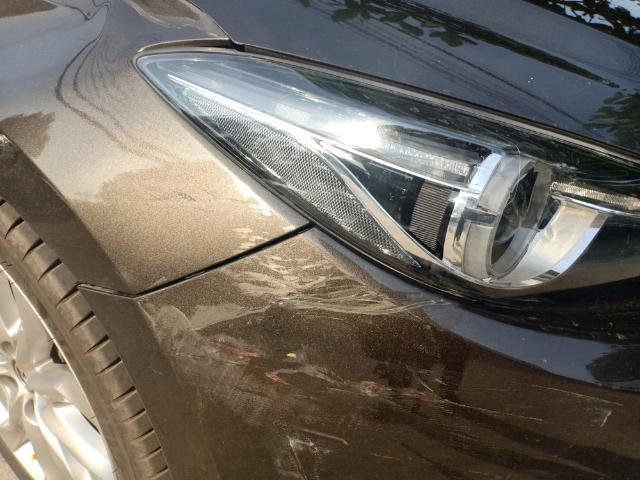scratch: (136, 235, 629, 480)
